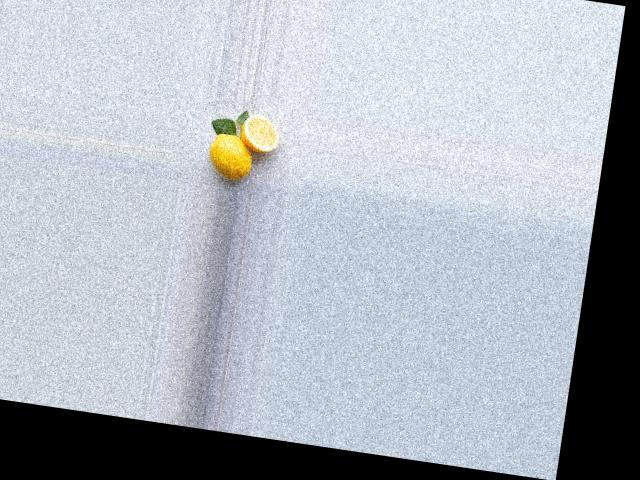lemon: (201, 127, 255, 182)
